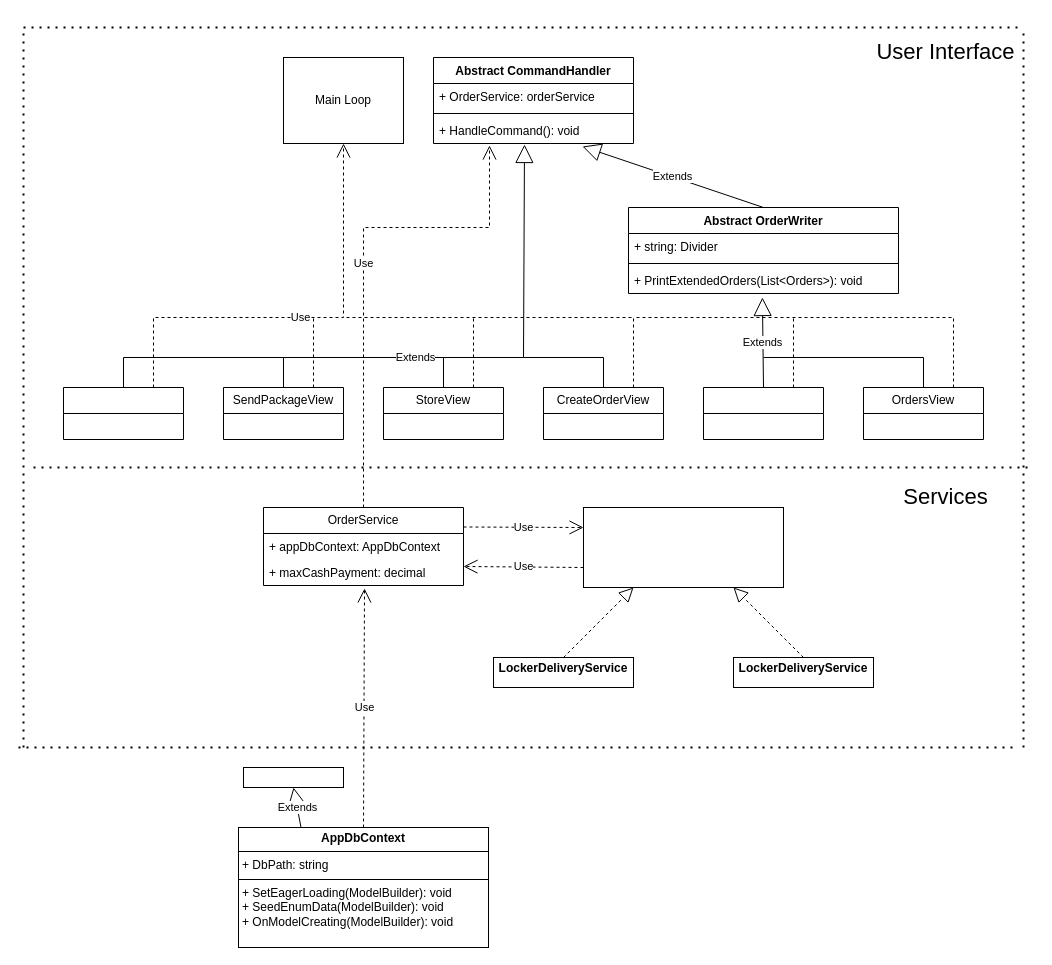
Some shapes in this 1052 by 965 pixel diagram are drawn without their labels. The shapes that lost their labels are listed below. From the top down, each one's centre as x and y in pixels, then its label:
At (123,413): "CloserView".
At (763,413): "FilterPackagesView".
At (683,547): "<<Interface>> DeliveryService + HandleDelivery(Order): Task".
At (293,777): "DbContext".
